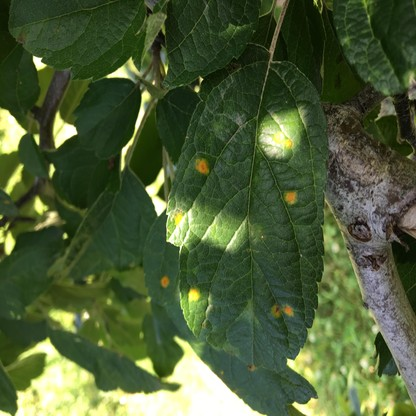powdery_mildew: (230, 109, 245, 125)
rust: (274, 131, 291, 148), (270, 304, 292, 317), (195, 157, 210, 175), (174, 210, 183, 227), (284, 191, 295, 204), (160, 278, 170, 288), (248, 362, 255, 371)
scab: (239, 299, 261, 325), (222, 338, 240, 357)
